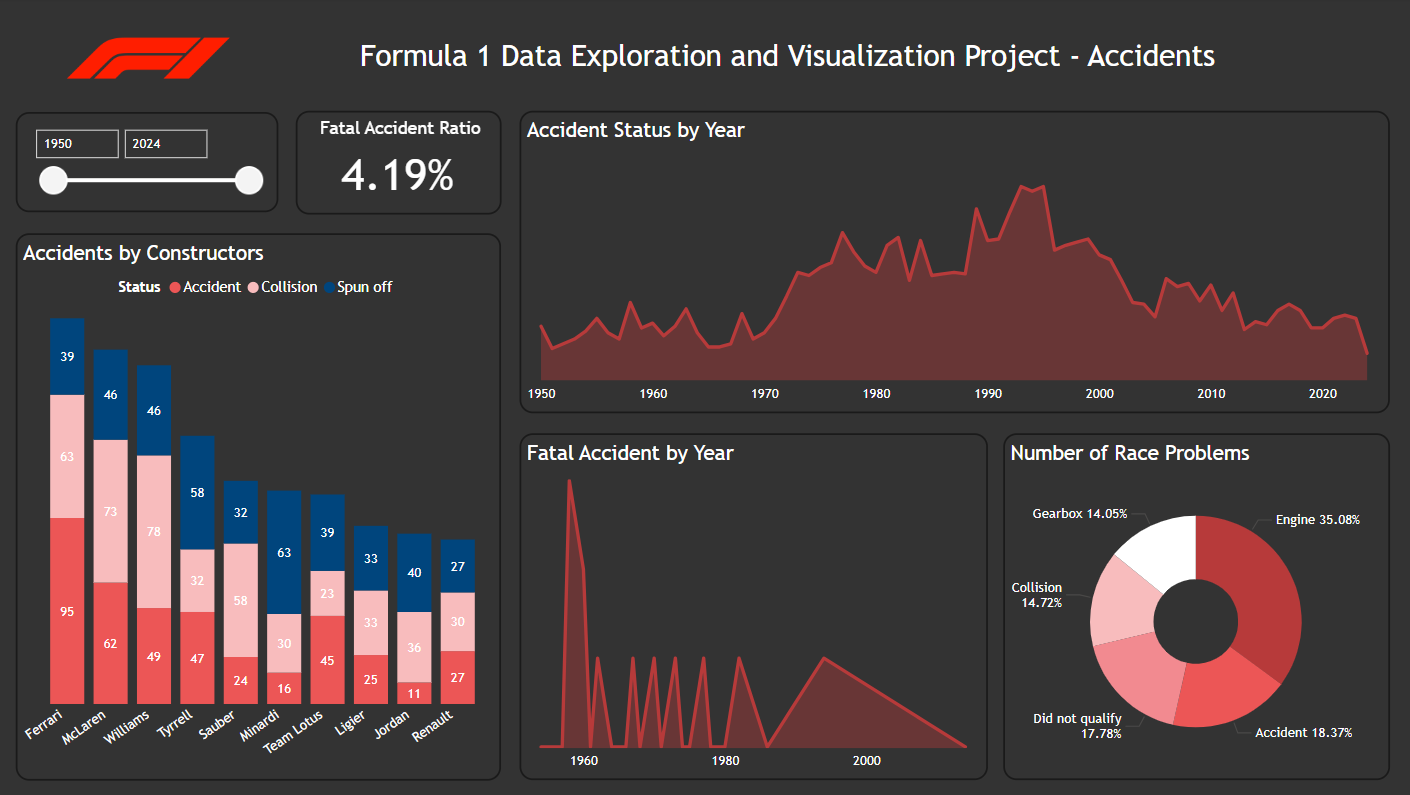

What the dashboard file says about the page in this screenshot:
{"tool":"powerbi","page":{"name":"Accidents","canvas":[1280,720],"ordinal":2},"visuals":[{"type":"areaChart","title":"Accident Status by Year","fields":{"Category":["f1Dataset03.date.Variation.Date Hierarchy.Year"],"Series":["f1Dataset.status"],"Y":["CountNonNull(f1Dataset.status)"]},"box":[507.7,102.9,747.9,273.1],"z":0},{"type":"columnChart","title":"Accidents by Constructors","fields":{"Category":["f1Dataset.constructorName"],"Series":["f1Dataset.status"],"Y":["CountNonNull(f1Dataset.status)"]},"box":[16.5,212.7,473.4,494],"z":1000},{"type":"image","box":[48,8.2,175.6,94.7],"z":2000},{"type":"textbox","box":[168.6,32.9,1087.1,44.3],"z":3000},{"type":"slicer","fields":{"Values":["f1Dataset.year"]},"box":[17.1,103.3,237.1,90],"z":4000},{"type":"card","title":"Fatal Accident Ratio","fields":{"Values":["f1Dataset.driverDeathPerc"]},"box":[269,102.7,221.3,92.9],"z":5000},{"type":"columnChart","title":"Count of Race Problems","fields":{"Category":["f1Dataset.status"],"Y":["CountNonNull(f1Dataset.status)"]},"box":[506.3,393.8,749.2,312.9],"z":6000}]}

Visuals, with their boxes in screenshot pixels (x1, y1, x2, y2), scaled from the page's 1280x720 canvas onto the 1410x795 screenshot:
"Accident Status by Year" areaChart: region(559, 114, 1383, 415)
"Accidents by Constructors" columnChart: region(18, 235, 540, 780)
image: region(53, 9, 246, 114)
textbox: region(186, 36, 1383, 85)
slicer - f1Dataset.year: region(19, 114, 280, 213)
"Fatal Accident Ratio" card: region(296, 113, 540, 216)
"Count of Race Problems" columnChart: region(558, 435, 1383, 780)
